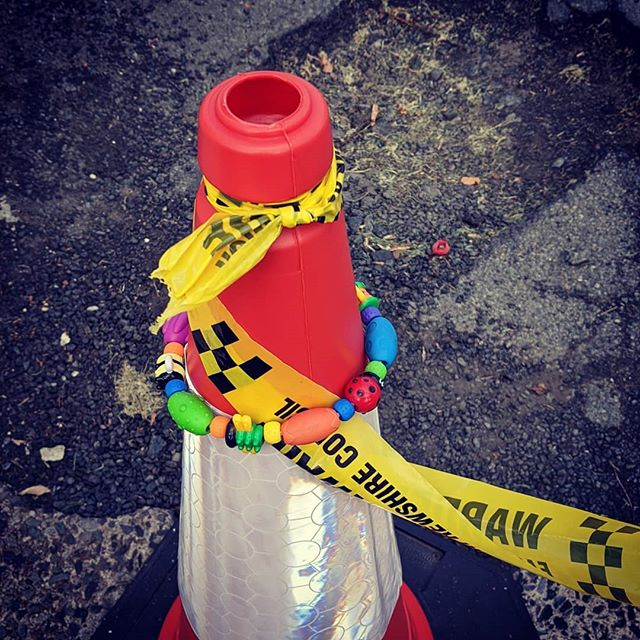traffic cone: (152, 82, 477, 640)
